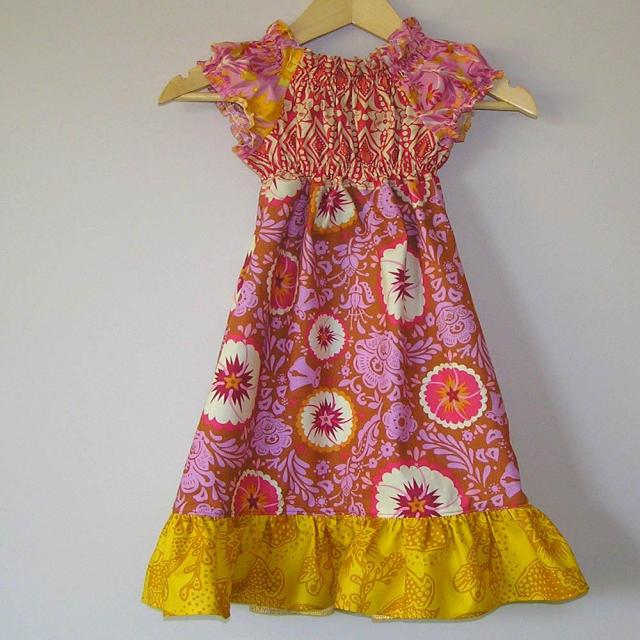Dress: (157, 0, 588, 626)
